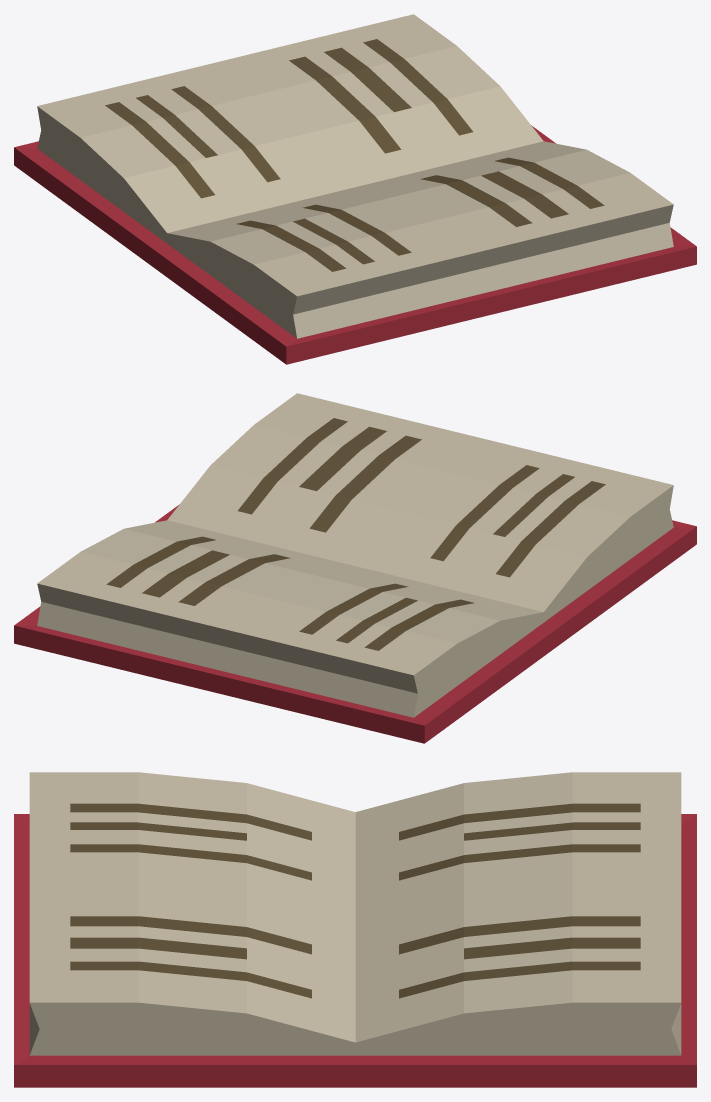
File: Book_Open.glb
3 renders of one model, top to bottom at view 1: azimuth 30°, elevation 25°; view 2: azimuth 150°, elevation 25°; view 3: azimuth 270°, elevation 25°, orthographic. The views are drawn at different scales.
Parts seen in each view (by area): view 1: Book_Open; view 2: Book_Open; view 3: Book_Open.
Part boxes in pixels (box(x1,y1,x2,y2)): Book_Open: box(14, 14, 696, 364); Book_Open: box(14, 393, 696, 743); Book_Open: box(14, 772, 696, 1087).
Bounding box in the file's own units: 1.19 × 0.1658 × 1.37.
